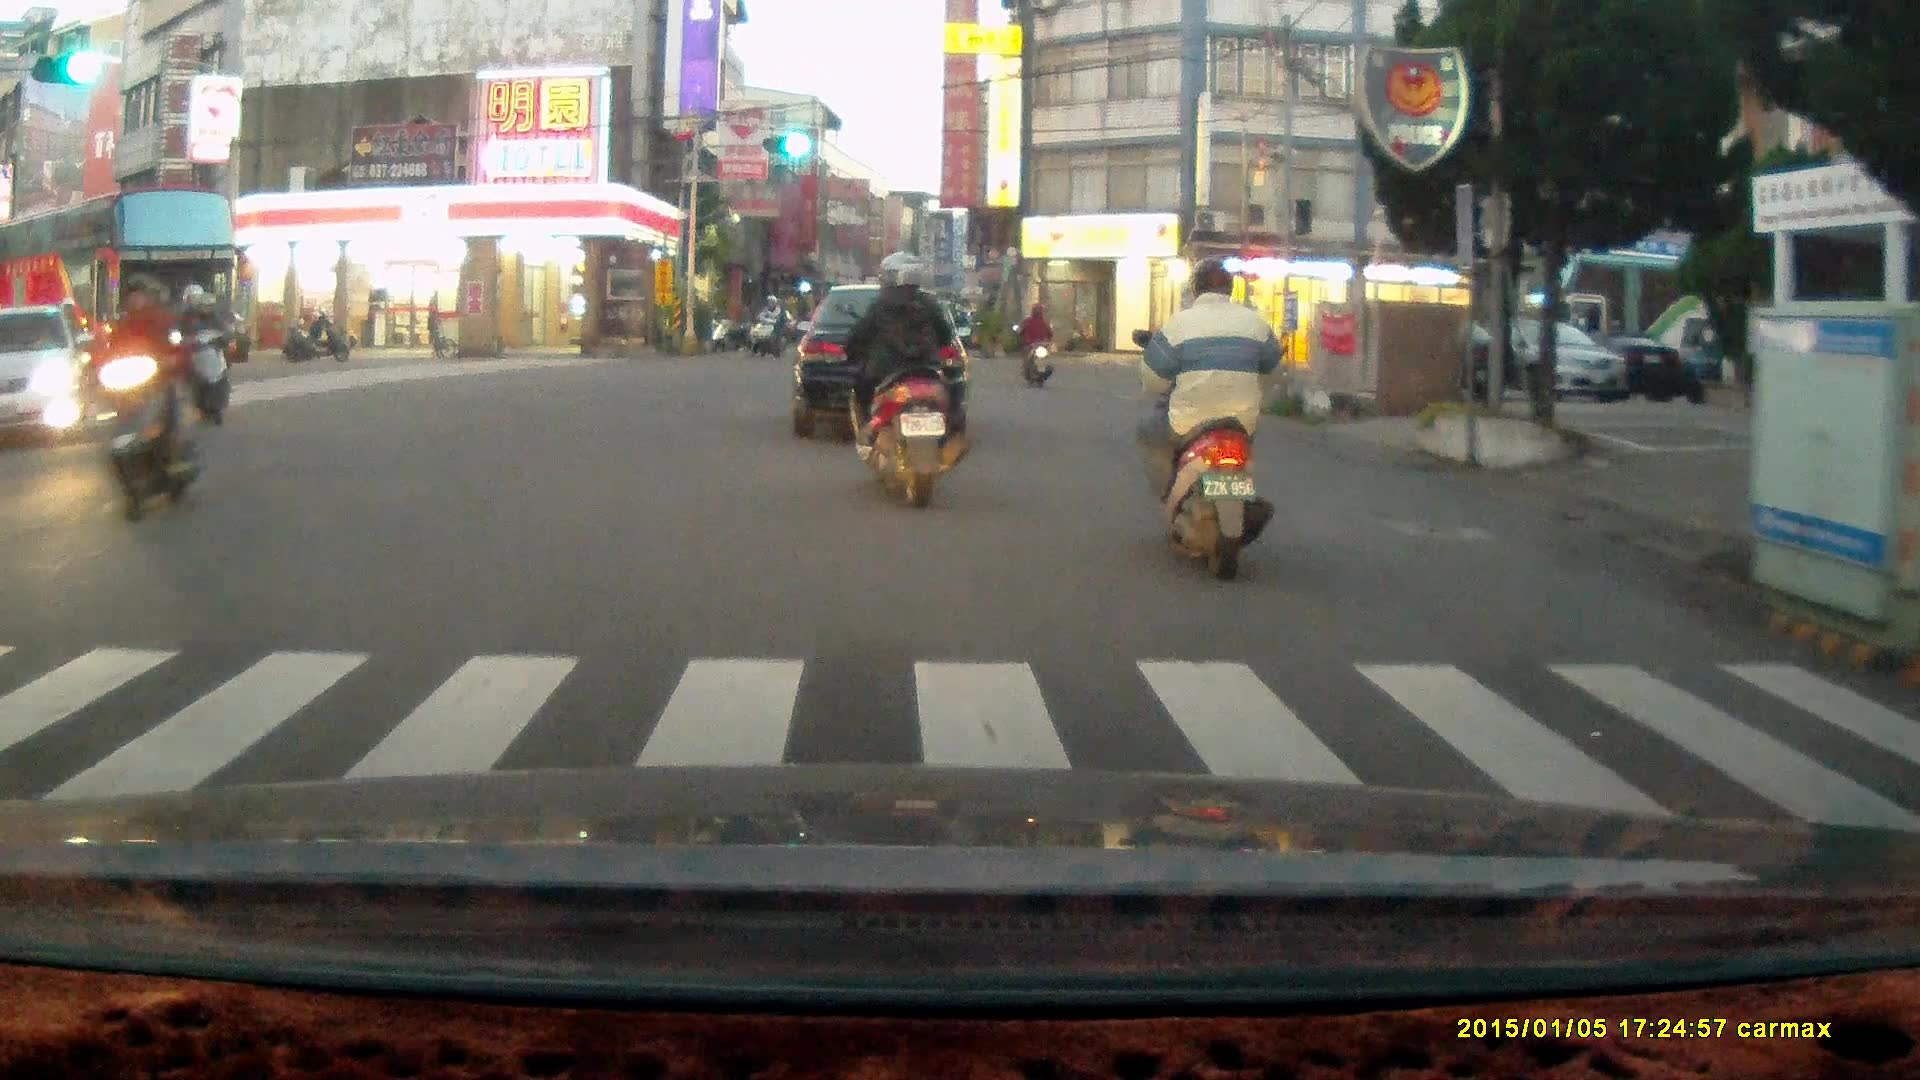rider: (1131, 247, 1282, 570), (834, 244, 975, 511), (79, 275, 200, 525), (171, 281, 233, 424), (1008, 296, 1055, 387), (746, 291, 780, 356)
vehicle: (1, 190, 241, 400), (1425, 315, 1633, 401), (1, 308, 88, 441)
